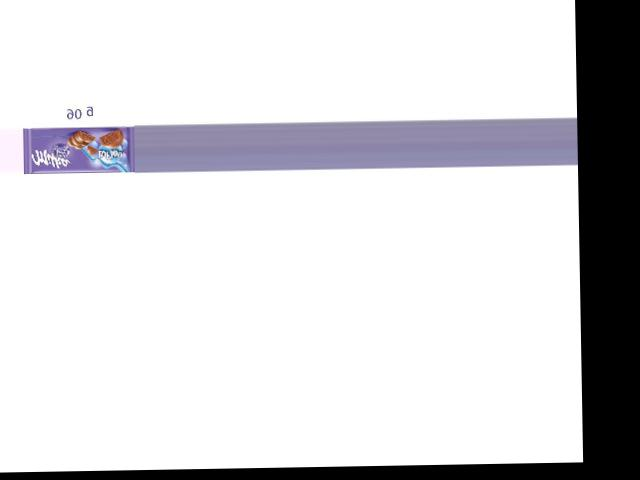chocolate: (25, 126, 135, 174)
